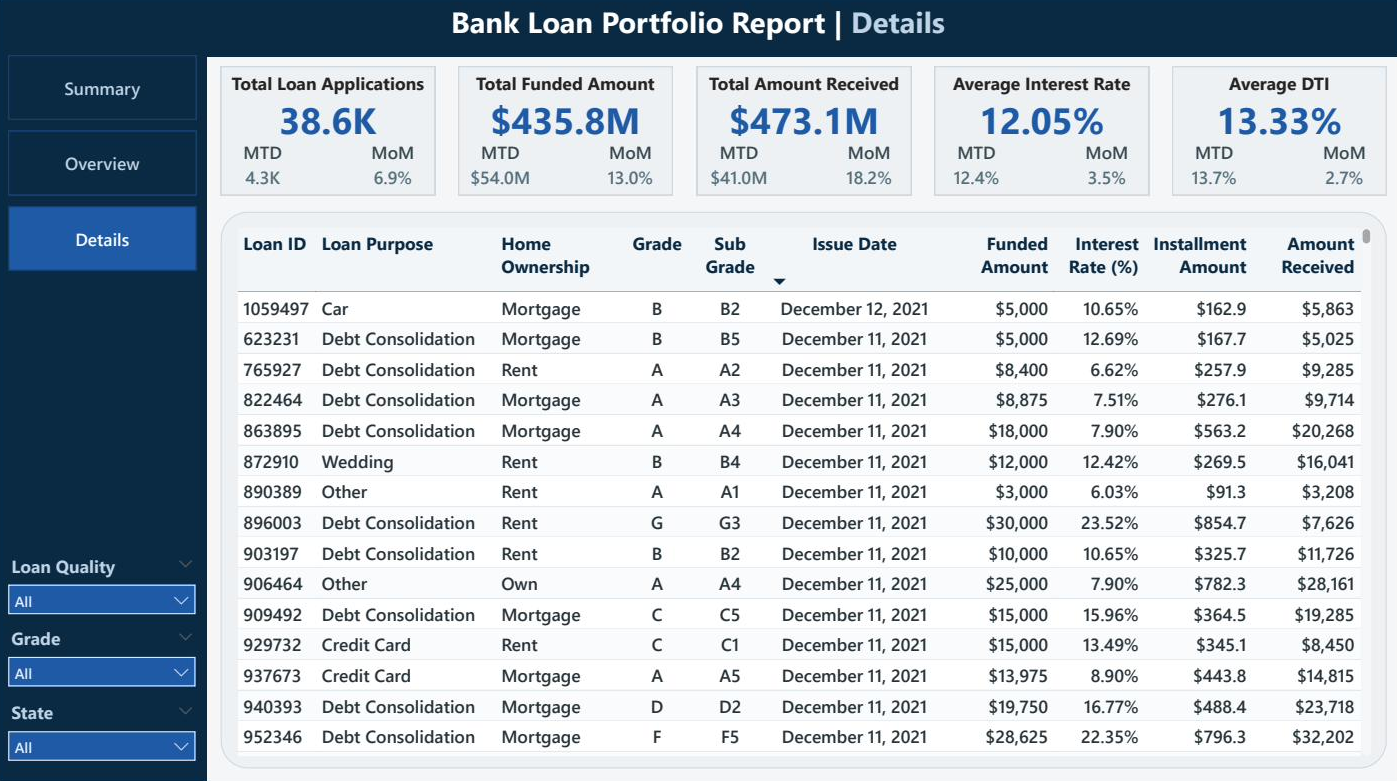

What the dashboard file says about the page in this screenshot:
{"tool":"powerbi","page":{"name":"Details","canvas":[1280,720],"ordinal":2},"visuals":[{"type":"shape","box":[204.1,63.8,195.6,117.6],"z":0,"group":"g1"},{"type":"shape","box":[421.3,63.8,195.6,117.6],"z":0,"group":"g2"},{"type":"shape","box":[638.5,63.8,195.6,117.6],"z":0,"group":"g3"},{"type":"shape","box":[855.7,63.8,195.6,117.6],"z":0,"group":"g4"},{"type":"shape","box":[1072.9,63.8,195.6,117.6],"z":0,"group":"g5"},{"type":"shape","box":[204.1,197,1064.4,508.8],"z":0},{"type":"shape","box":[0,53.9,191.3,664.7],"z":1000},{"type":"shape","box":[0.2,0,1279.8,55.3],"z":2000},{"type":"textbox","box":[402.5,0,474.8,55.3],"z":3000},{"type":"card","fields":{"Values":["_Measures.Total Loan Applications"]},"box":[204.1,95,195.6,36.9],"z":3000,"group":"g1"},{"type":"card","fields":{"Values":["_Measures.Total Funded Amount"]},"box":[421.3,95,195.6,36.9],"z":3000,"group":"g2"},{"type":"card","fields":{"Values":["_Measures.Total Amount Received"]},"box":[638.5,95,195.6,36.9],"z":3000,"group":"g3"},{"type":"card","fields":{"Values":["_Measures.Average Interest Rate"]},"box":[855.7,95,195.6,36.9],"z":3000,"group":"g4"},{"type":"card","fields":{"Values":["_Measures.Average DTI"]},"box":[1072.9,95,195.6,36.9],"z":3000,"group":"g5"},{"type":"group","id":"g1","title":"Group 1","box":[204.1,63.8,195.6,117.6],"z":4000},{"type":"textbox","box":[204.1,63.8,195.6,31.2],"z":5000,"group":"g1"},{"type":"group","id":"g2","title":"Group 1","box":[421.3,63.8,195.6,117.6],"z":5000},{"type":"textbox","box":[421.3,63.8,195.6,31.2],"z":5000,"group":"g2"},{"type":"textbox","box":[638.5,63.8,195.6,31.2],"z":5000,"group":"g3"},{"type":"textbox","box":[855.7,63.8,195.6,31.2],"z":5000,"group":"g4"},{"type":"textbox","box":[1072.9,63.8,195.6,31.2],"z":5000,"group":"g5"},{"type":"group","id":"g3","title":"Group 1","box":[638.5,63.8,195.6,117.6],"z":6000},{"type":"card","title":"MTD","fields":{"Values":["_Measures.MTD Loan Applications"]},"box":[204.1,131.8,76.5,49.6],"z":6000,"group":"g1"},{"type":"card","title":"MTD","fields":{"Values":["_Measures.MTD Funded Amount"]},"box":[421.3,131.8,76.5,49.6],"z":6000,"group":"g2"},{"type":"card","title":"MTD","fields":{"Values":["_Measures.MTD Amount Received"]},"box":[638.5,131.8,76.5,49.6],"z":6000,"group":"g3"},{"type":"card","title":"MTD","fields":{"Values":["_Measures.MTD Average Interest Rate"]},"box":[855.7,131.8,76.5,49.6],"z":6000,"group":"g4"},{"type":"card","title":"MTD","fields":{"Values":["_Measures.MTD DTI"]},"box":[1072.9,131.8,76.5,49.6],"z":6000,"group":"g5"},{"type":"group","id":"g4","title":"Group 1","box":[855.7,63.8,195.6,117.6],"z":7000},{"type":"card","title":"MoM","fields":{"Values":["_Measures.MoM Applications"]},"box":[323.2,131.8,76.5,49.6],"z":7000,"group":"g1"},{"type":"card","title":"MoM","fields":{"Values":["_Measures.MoM Funded Amount %"]},"box":[540.4,131.8,76.5,49.6],"z":7000,"group":"g2"},{"type":"card","title":"MoM","fields":{"Values":["_Measures.MoM Amount Received %"]},"box":[757.6,131.8,76.5,49.6],"z":7000,"group":"g3"},{"type":"card","title":"MoM","fields":{"Values":["_Measures.MoM Average Interest Rate %"]},"box":[974.8,131.8,76.5,49.6],"z":7000,"group":"g4"},{"type":"card","title":"MoM","fields":{"Values":["_Measures.MoM DTI %"]},"box":[1192,131.8,76.5,49.6],"z":7000,"group":"g5"},{"type":"group","id":"g5","title":"Group 1","box":[1072.9,63.8,195.6,117.6],"z":8000},{"type":"slicer","fields":{"Values":["bank_loan.Loan Quality"]},"box":[0,504.6,191.3,66.6],"z":9000},{"type":"slicer","fields":{"Values":["bank_loan.grade"]},"box":[0,571.2,191.3,68],"z":10000},{"type":"slicer","fields":{"Values":["bank_loan.address_state"]},"box":[0,639.2,191.3,66.6],"z":13000},{"type":"tableEx","fields":{"Values":["bank_loan.id","bank_loan.purpose","bank_loan.home_ownership","bank_loan.grade","bank_loan.sub_grade","bank_loan.issue_date","_Measures.Total Funded Amount","bank_loan.int_rate","Sum(bank_loan.installment)","_Measures.Total Amount Received"]},"box":[214,206.9,1046,491.8],"z":15000},{"type":"pageNavigator","box":[9.9,53.9,172.9,198.4],"z":16000}]}

Visuals, with their boxes in screenshot pixels (x1, y1, x2, y2), scaled from the page's 1280x720 canvas onto the 1397x781 screenshot:
shape: box(223, 69, 436, 197)
shape: box(460, 69, 673, 197)
shape: box(697, 69, 910, 197)
shape: box(934, 69, 1147, 197)
shape: box(1171, 69, 1384, 197)
shape: box(223, 214, 1384, 766)
shape: box(0, 58, 209, 779)
shape: box(0, 0, 1396, 60)
textbox: box(439, 0, 957, 60)
card - _Measures.Total Loan Applications: box(223, 103, 436, 143)
card - _Measures.Total Funded Amount: box(460, 103, 673, 143)
card - _Measures.Total Amount Received: box(697, 103, 910, 143)
card - _Measures.Average Interest Rate: box(934, 103, 1147, 143)
card - _Measures.Average DTI: box(1171, 103, 1384, 143)
"Group 1" group: box(223, 69, 436, 197)
textbox: box(223, 69, 436, 103)
"Group 1" group: box(460, 69, 673, 197)
textbox: box(460, 69, 673, 103)
textbox: box(697, 69, 910, 103)
textbox: box(934, 69, 1147, 103)
textbox: box(1171, 69, 1384, 103)
"Group 1" group: box(697, 69, 910, 197)
"MTD" card: box(223, 143, 306, 197)
"MTD" card: box(460, 143, 543, 197)
"MTD" card: box(697, 143, 780, 197)
"MTD" card: box(934, 143, 1017, 197)
"MTD" card: box(1171, 143, 1254, 197)
"Group 1" group: box(934, 69, 1147, 197)
"MoM" card: box(353, 143, 436, 197)
"MoM" card: box(590, 143, 673, 197)
"MoM" card: box(827, 143, 910, 197)
"MoM" card: box(1064, 143, 1147, 197)
"MoM" card: box(1301, 143, 1384, 197)
"Group 1" group: box(1171, 69, 1384, 197)
slicer - bank_loan.Loan Quality: box(0, 547, 209, 620)
slicer - bank_loan.grade: box(0, 620, 209, 693)
slicer - bank_loan.address_state: box(0, 693, 209, 766)
tableEx - bank_loan.id x bank_loan.purpose: box(234, 224, 1375, 758)
pageNavigator: box(11, 58, 200, 274)
